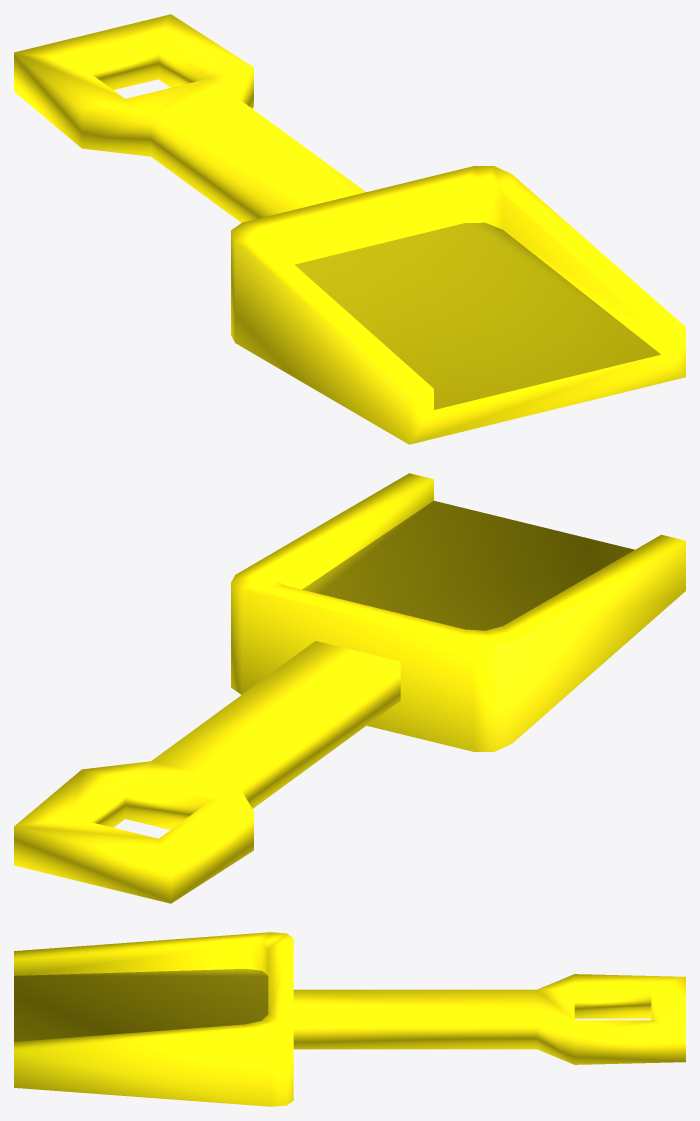
The model's file is BeachToyShovelYellow.glb.
3 renders of one model, top to bottom at view 1: azimuth 30°, elevation 25°; view 2: azimuth 150°, elevation 25°; view 3: azimuth 270°, elevation 25°, orthographic. The views are drawn at different scales.
Visible parts, largest first — view 1: BeachToyShovelYellow; view 2: BeachToyShovelYellow; view 3: BeachToyShovelYellow.
Part boxes in pixels (x1,y1,x2,y2): BeachToyShovelYellow: (14,14,685,444); BeachToyShovelYellow: (14,473,685,903); BeachToyShovelYellow: (14,932,685,1106).
Size of the model in its own units: 0.1813 by 0.0664 by 0.5164.
1 material, 1 textured.
